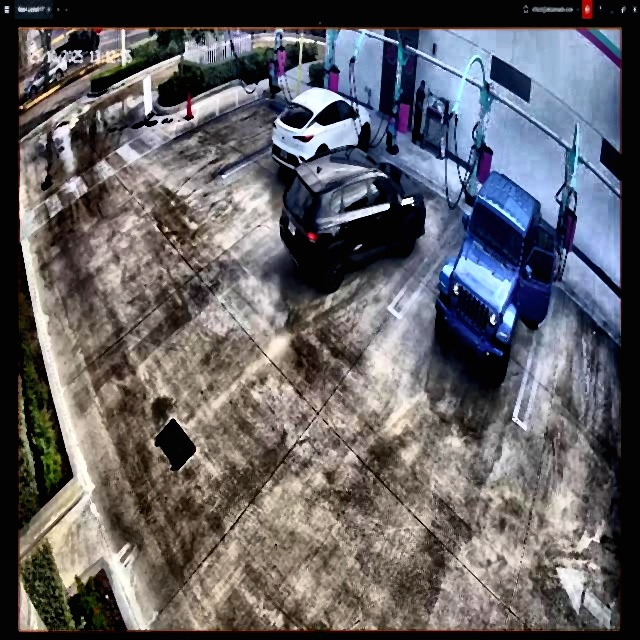Car: (437, 173, 555, 384), (284, 153, 426, 286), (274, 88, 369, 174)
